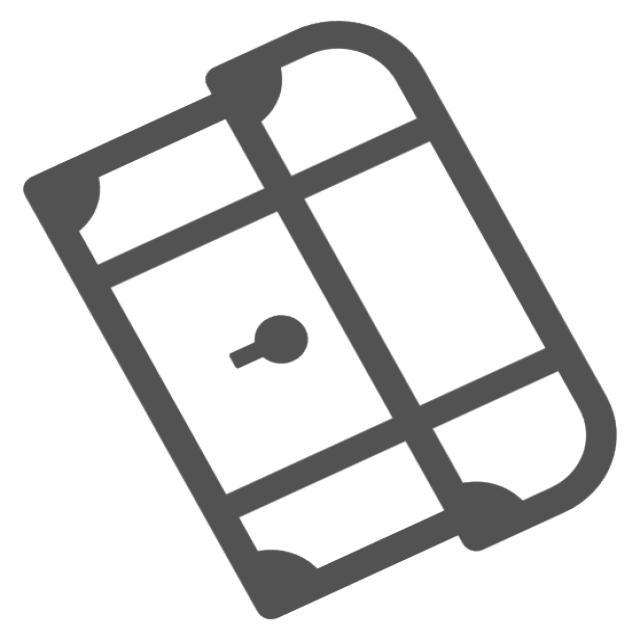treasure_box: (14, 14, 628, 630)
